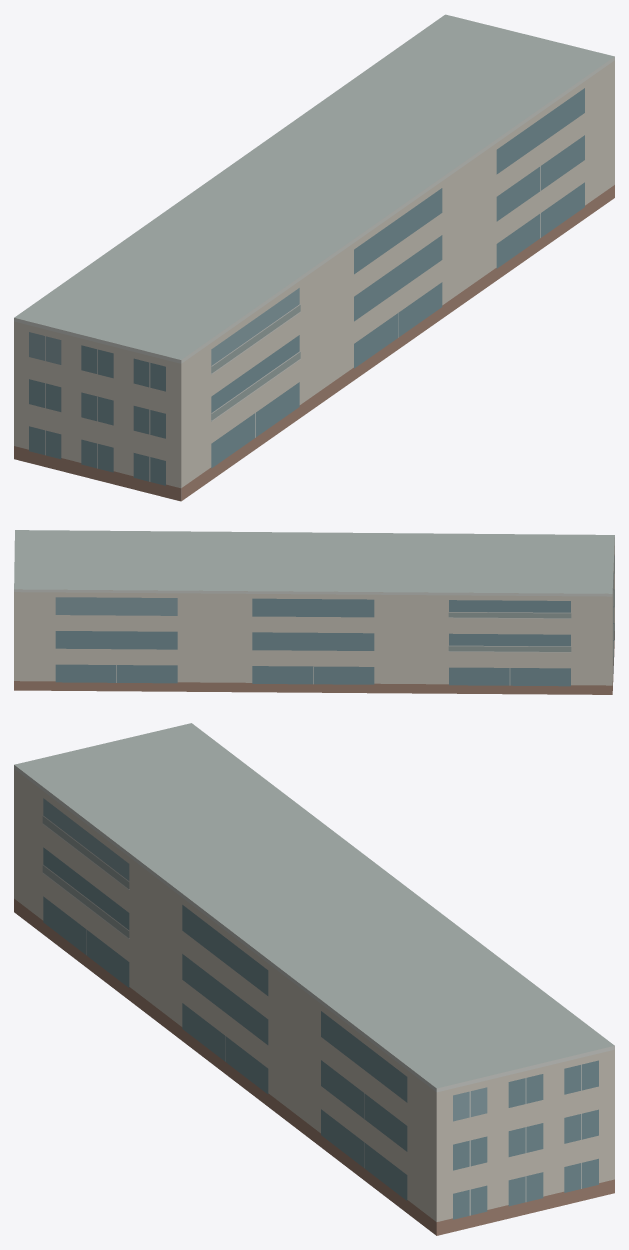
The model's file is survey-upis-32725063.glb.
3 views of the same model, one above another, from view 1: azimuth 30°, elevation 25°; view 2: azimuth 150°, elevation 25°; view 3: azimuth 270°, elevation 25° (orthographic). The views are drawn at different scales.
Visible parts, largest first — view 1: survey-upis-32725063.tmp; view 2: survey-upis-32725063.tmp; view 3: survey-upis-32725063.tmp.
Part boxes in pixels (x1,y1,x2,y2): survey-upis-32725063.tmp: (14, 14, 614, 501); survey-upis-32725063.tmp: (14, 530, 614, 694); survey-upis-32725063.tmp: (14, 723, 614, 1235).
Bounding box in the file's own units: 48.66 × 9.15 × 33.81.
